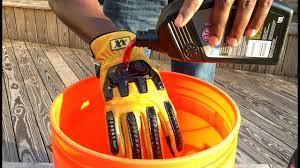gloves: (89, 30, 184, 160)
